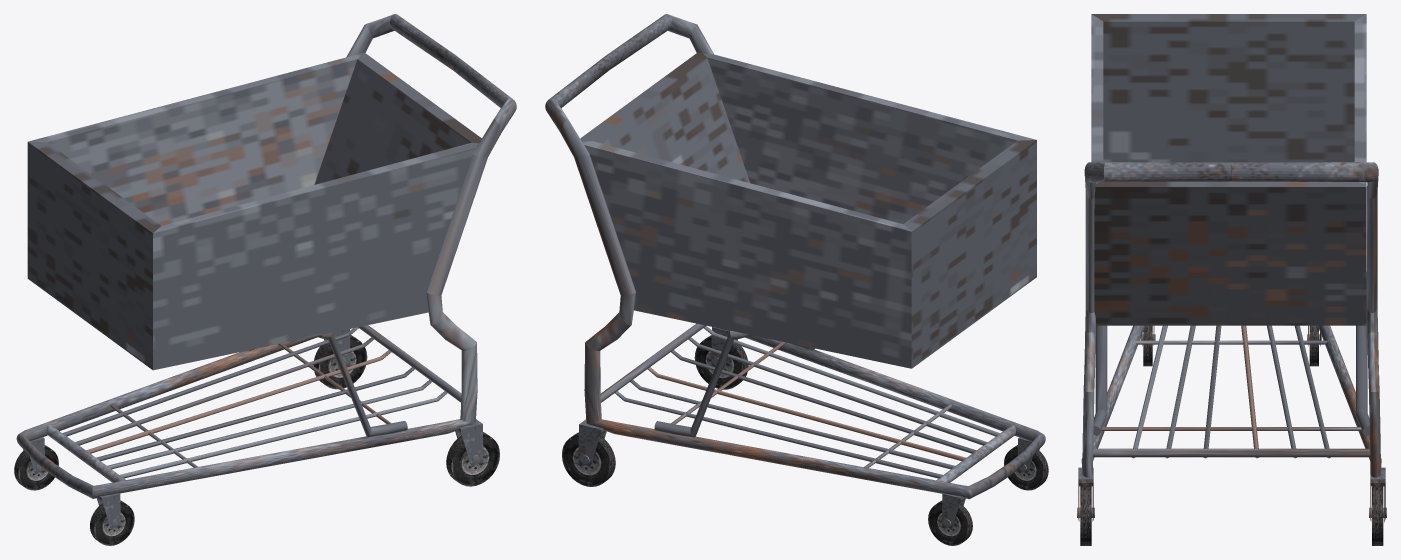
The model's file is BoneGrown_shelves.fbx.
3 renders of one model, left to right at view 1: azimuth 30°, elevation 25°; view 2: azimuth 150°, elevation 25°; view 3: azimuth 270°, elevation 25°, orthographic. The views are drawn at different scales.
Parts seen in each view (by area): view 1: Cylinder.008; view 2: Cylinder.008; view 3: Cylinder.008.
Boxes of the visible parts, x1=… form: Cylinder.008: x1=14, y1=14, x2=516, y2=545; Cylinder.008: x1=545, y1=14, x2=1048, y2=545; Cylinder.008: x1=1077, y1=14, x2=1386, y2=545.
Bounding box in the file's own units: 759 × 653 × 452.
3 materials, 3 textured.
